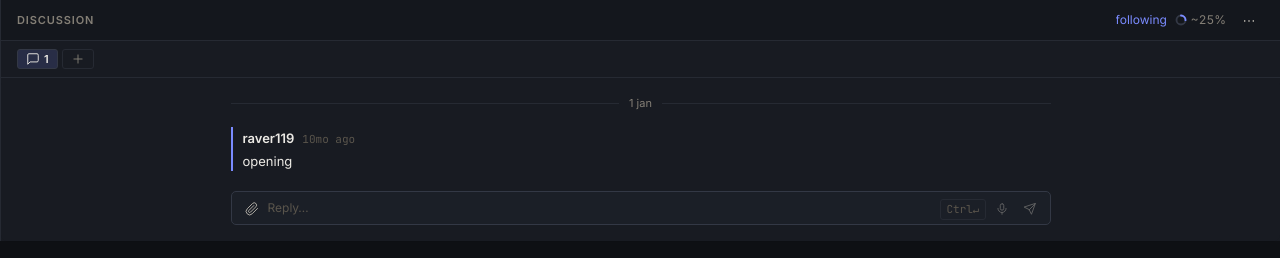
the context indicator in the column header › DDS-FR-WRNB: shows the split on hover
This screenshot has width=1280, height=258.
Hover over the element showing "~25%": (1200, 20) left=1175, top=11, right=1226, bottom=29
Wait 500 ms
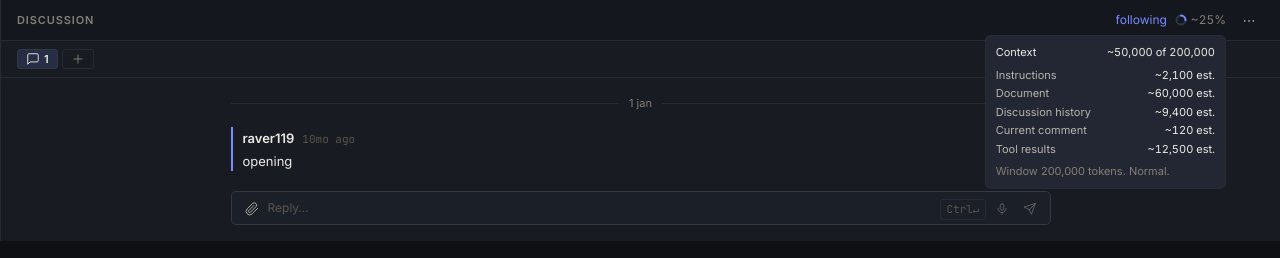
Check: the element with test id "context-indicator-tip" is shown, box left=996, top=164, right=1170, bottom=178
Move the pointer off the element showing "~25% Window 200,000 tokens. Normal.", box left=1175, top=11, right=1226, bottom=29
Wait 500 ms
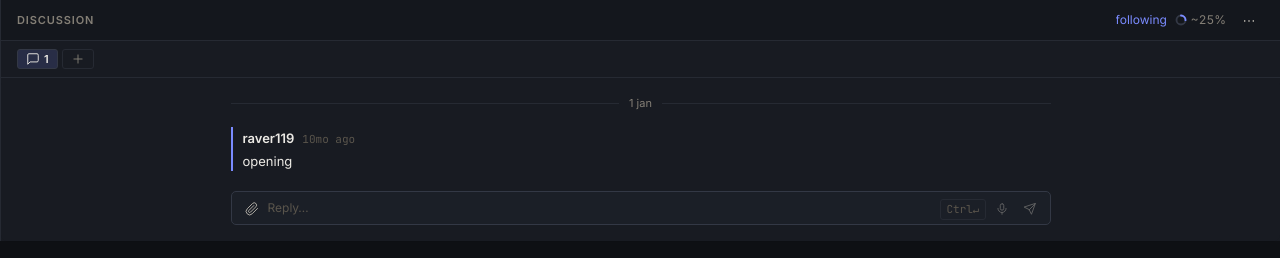
Check: the element with test id "context-indicator-tip" is gone
